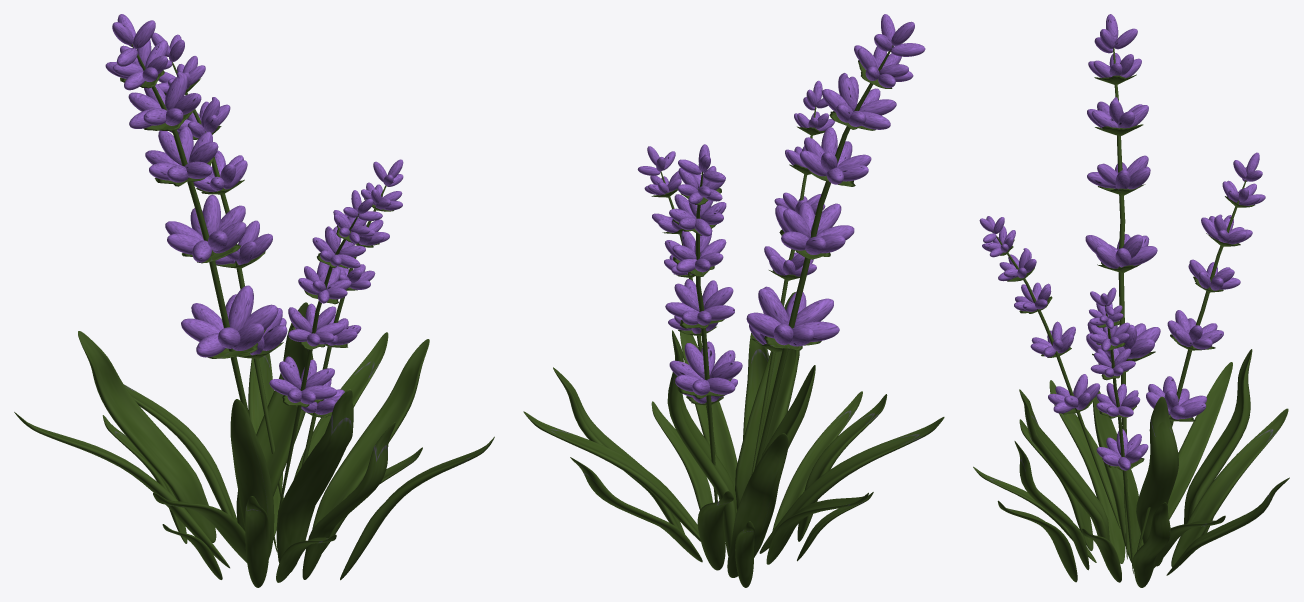
Rendered from assignment4_flowers 1.glb.
The picture shows the model from 3 angles, left to right: view 1: azimuth 30°, elevation 25°; view 2: azimuth 150°, elevation 25°; view 3: azimuth 270°, elevation 25°; orthographic projection. The views are drawn at different scales.
Visible parts, largest first — view 1: group47_pasted__group36_pasted__pasted__group_pasted__pasted, pasted__polySurface1 (×3), polySurface1; view 2: group47_pasted__group36_pasted__pasted__group_pasted__pasted, pasted__polySurface1 (×3), polySurface1; view 3: group47_pasted__group36_pasted__pasted__group_pasted__pasted, pasted__polySurface1 (×3), polySurface1.
Boxes of the visible parts, <box> form: group47_pasted__group36_pasted__pasted__group_pasted__pasted: <box>14,302,494,587</box>; pasted__polySurface1 (×3): <box>105,14,403,552</box>; polySurface1: <box>269,190,382,507</box>; group47_pasted__group36_pasted__pasted__group_pasted__pasted: <box>523,292,944,587</box>; pasted__polySurface1 (×3): <box>637,14,925,502</box>; polySurface1: <box>749,80,835,474</box>; group47_pasted__group36_pasted__pasted__group_pasted__pasted: <box>973,349,1289,587</box>; pasted__polySurface1 (×3): <box>1085,14,1265,573</box>; polySurface1: <box>979,216,1120,528</box>.
Bounding box in the file's own units: 1.32 × 2 × 1.18.
Materials: 1 (1 with a texture image).
